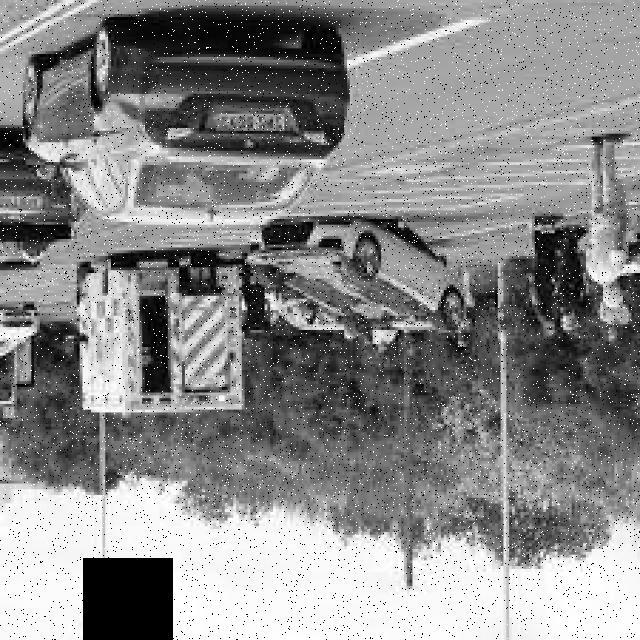severe: (239, 212, 478, 346)
